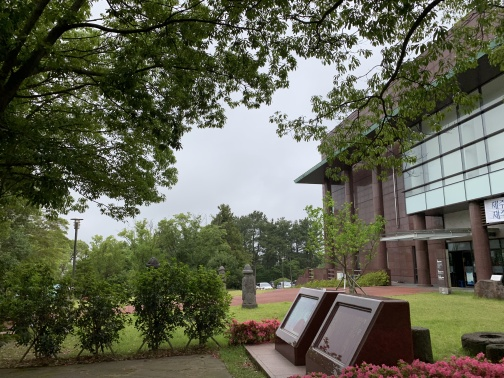Museum: (295, 53, 504, 297)
